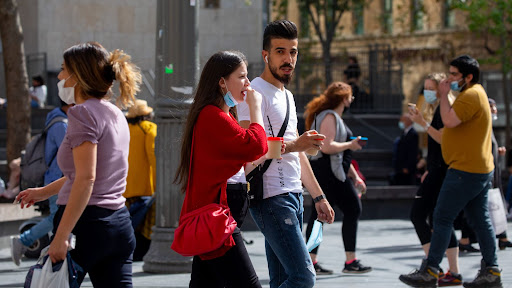with_incorrect_mask: (50, 61, 84, 103), (223, 64, 251, 110)
with_mask: (423, 78, 438, 104)
without_mask: (271, 38, 294, 80)
